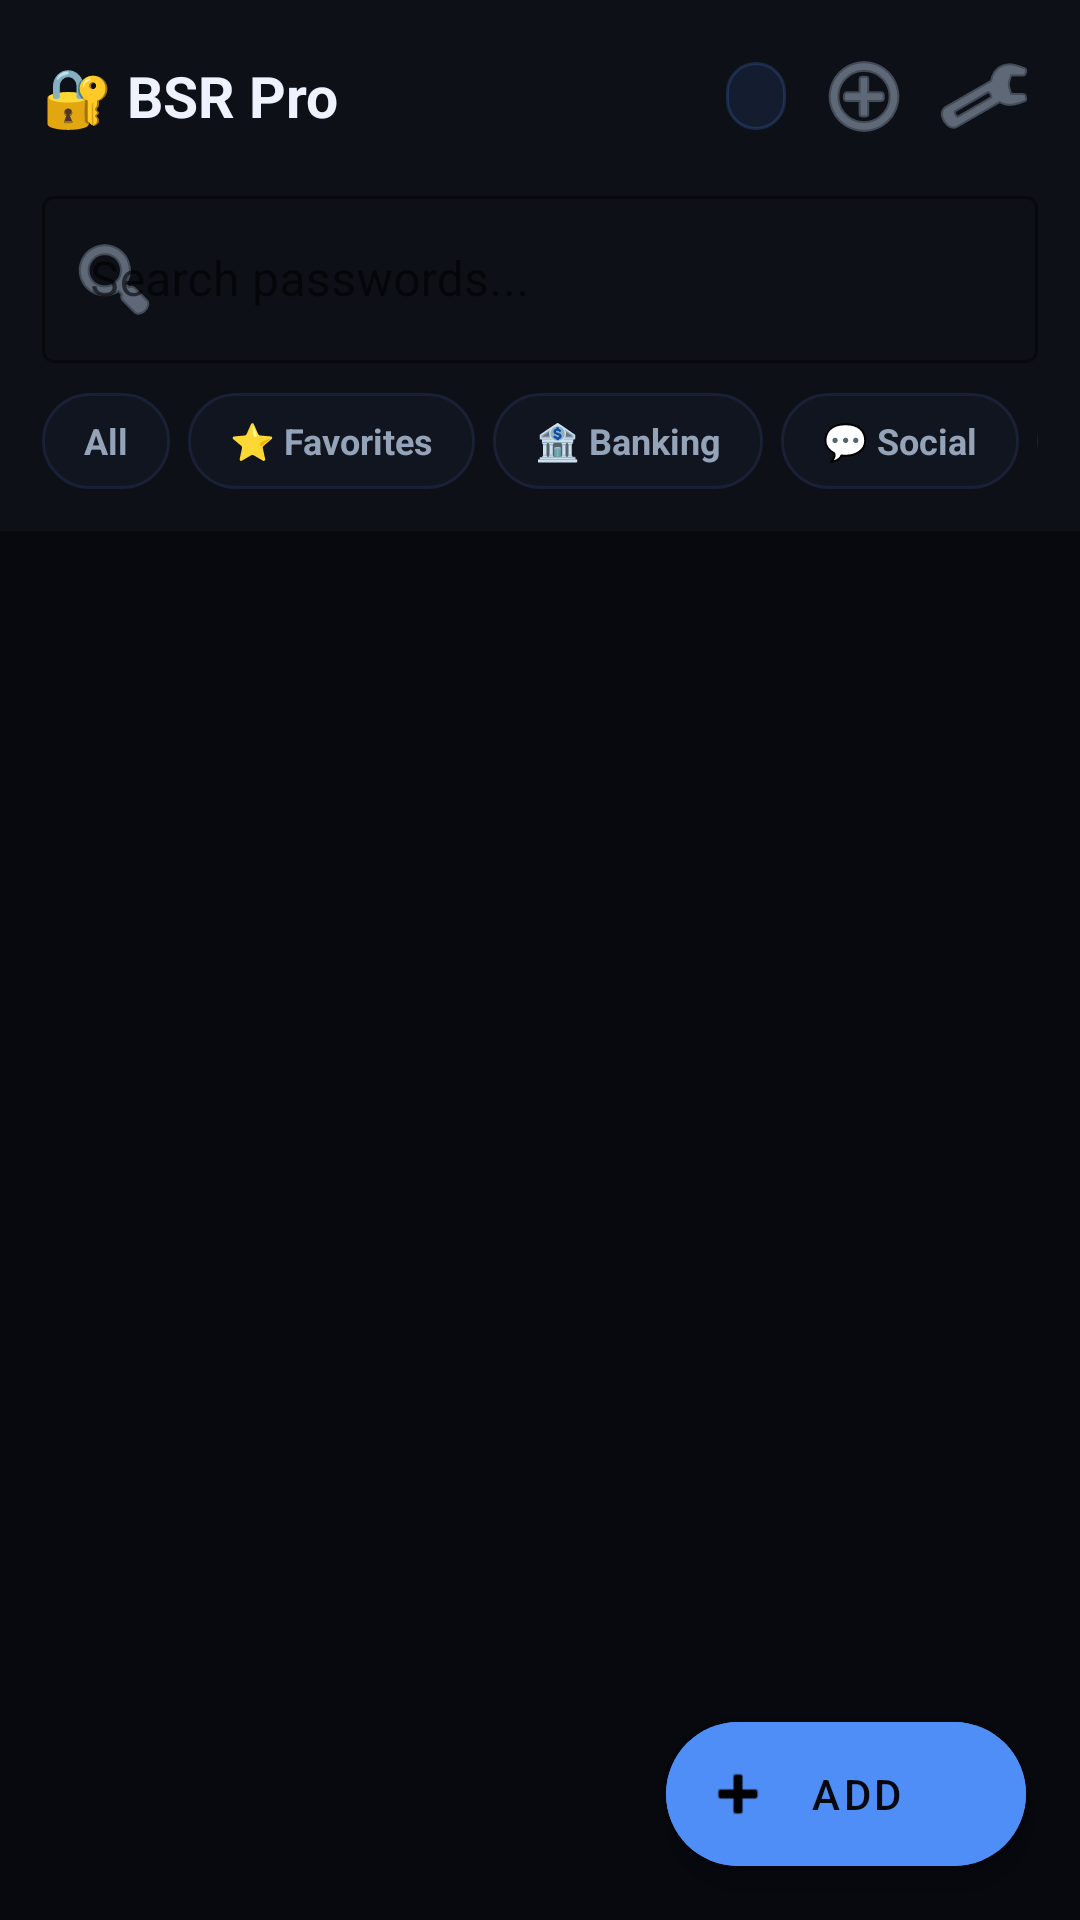

Locate icon controls on the screen. Image size 1080x1920, boxes as box(x1, y1, x2, y2).
add: box(829, 61, 899, 132)
preferences: box(941, 63, 1027, 129)
